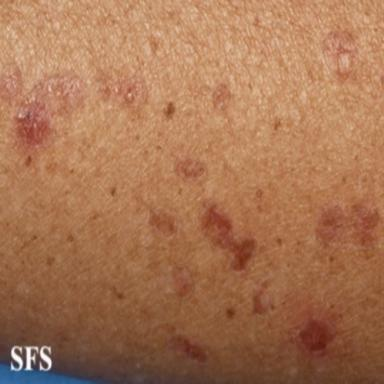Porokeratosis: (14, 74, 85, 150), (199, 201, 257, 271), (316, 200, 379, 248), (322, 31, 359, 80), (97, 71, 146, 107), (299, 317, 333, 352), (167, 334, 208, 363), (157, 265, 194, 296), (0, 62, 23, 99), (149, 208, 177, 237), (174, 156, 206, 181), (253, 279, 274, 314), (213, 83, 230, 110), (163, 101, 175, 120)
